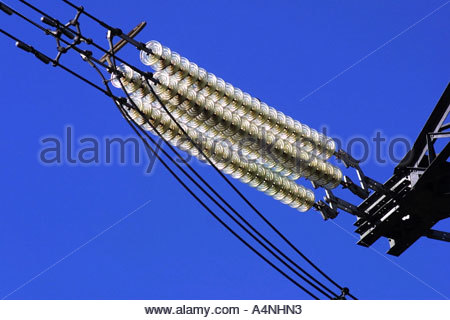isolator: (110, 39, 343, 213)
